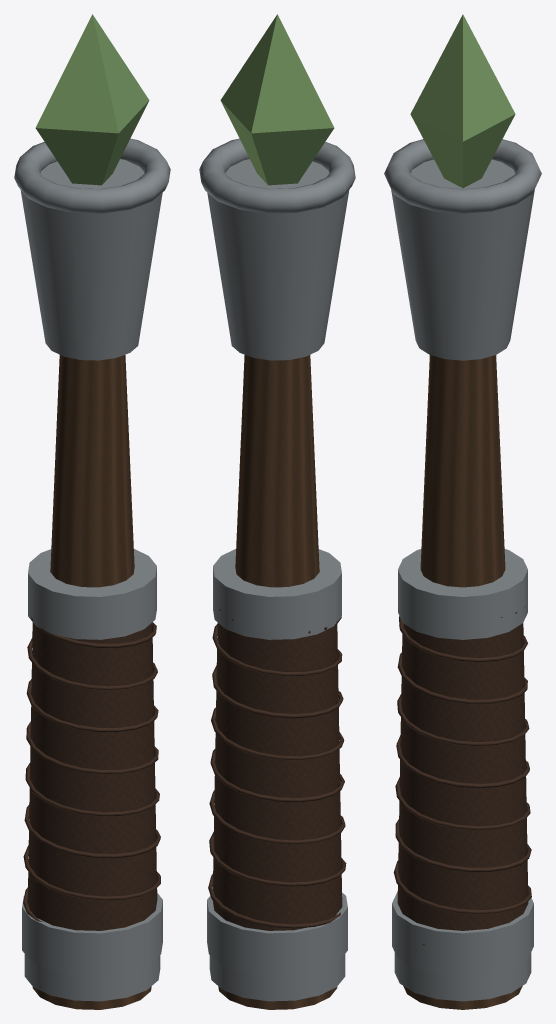
Rendered from corealm_wand_2.glb.
3 views of the same model, side by side, from view 1: azimuth 30°, elevation 25°; view 2: azimuth 150°, elevation 25°; view 3: azimuth 270°, elevation 25° (orthographic).
Visible parts, largest first — view 1: corealm-weapon-metal, corealm-weapon-leather, corealm-weapon-wood, corealm-weapon-gem; view 2: corealm-weapon-metal, corealm-weapon-leather, corealm-weapon-wood, corealm-weapon-gem; view 3: corealm-weapon-metal, corealm-weapon-leather, corealm-weapon-wood, corealm-weapon-gem.
Boxes of the visible parts, x1,y1,x2,y2 form: corealm-weapon-metal: (14, 138, 170, 1001); corealm-weapon-leather: (23, 617, 162, 930); corealm-weapon-wood: (32, 355, 151, 1009); corealm-weapon-gem: (35, 14, 149, 185); corealm-weapon-metal: (199, 138, 355, 1001); corealm-weapon-leather: (208, 609, 346, 930); corealm-weapon-wood: (218, 355, 337, 1009); corealm-weapon-gem: (220, 14, 334, 185); corealm-weapon-metal: (384, 139, 541, 1001); corealm-weapon-leather: (393, 607, 531, 950); corealm-weapon-wood: (403, 355, 522, 1009); corealm-weapon-gem: (410, 14, 515, 188).
Bounding box in the file's own units: 0.06 × 0.407 × 0.06.
Materials: 4 (2 with a texture image).
